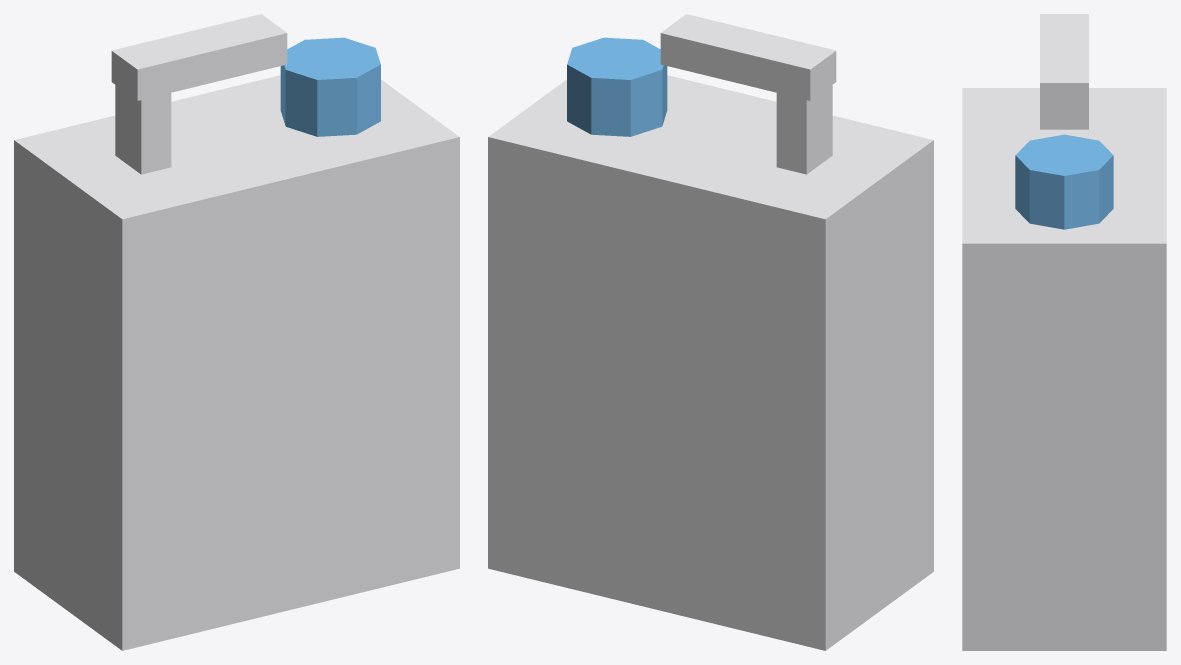
Rendered from Basura_Plastico_Bidon.fbx.
3 renders of one model, left to right at view 1: azimuth 30°, elevation 25°; view 2: azimuth 150°, elevation 25°; view 3: azimuth 270°, elevation 25°, orthographic. The views are drawn at different scales.
Parts seen in each view (by area): view 1: Basura_Plastico_Bidon; view 2: Basura_Plastico_Bidon; view 3: Basura_Plastico_Bidon.
Boxes of the visible parts, x1,y1,x2,y2 form: Basura_Plastico_Bidon: (14, 14, 459, 650); Basura_Plastico_Bidon: (488, 14, 933, 650); Basura_Plastico_Bidon: (962, 14, 1166, 650).
Bounding box in the file's own units: 0.9 × 1.37 × 0.5.
Materials: 1 (1 with a texture image).
